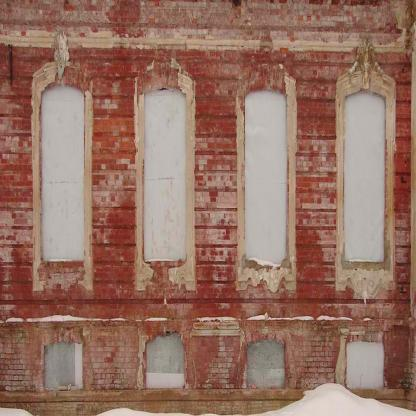Building Outline: (0, 0, 416, 416)
Dont: (248, 384, 416, 416), (96, 408, 193, 416), (0, 408, 33, 416)
Facade: (0, 1, 416, 415)
Ground Floor: (0, 1, 416, 415)
Window: (245, 89, 287, 265), (42, 86, 84, 261), (144, 88, 186, 261), (345, 91, 385, 262), (146, 332, 184, 388), (247, 339, 285, 388), (44, 342, 83, 389), (347, 341, 384, 388)
